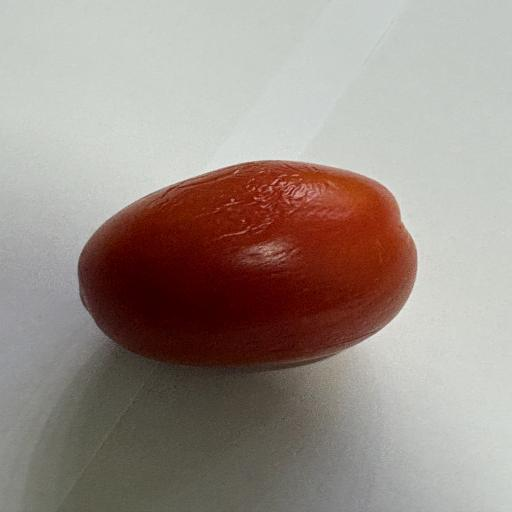spoiled: (78, 161, 417, 366)
